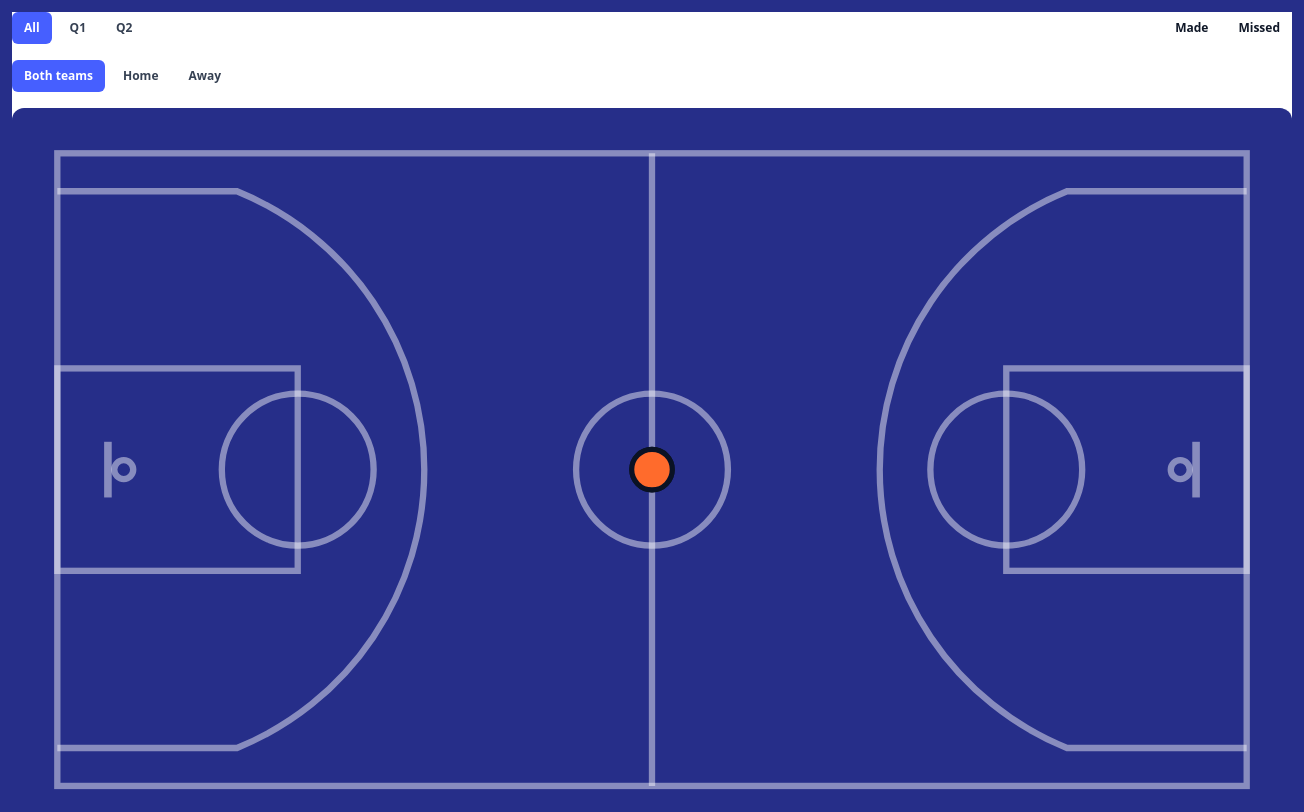
Test: ShotChartCourt › shows quarter filters when shots carry a period, and filters by it
Click the button "Q2" at coordinates (124, 28), box [104,12,144,44]
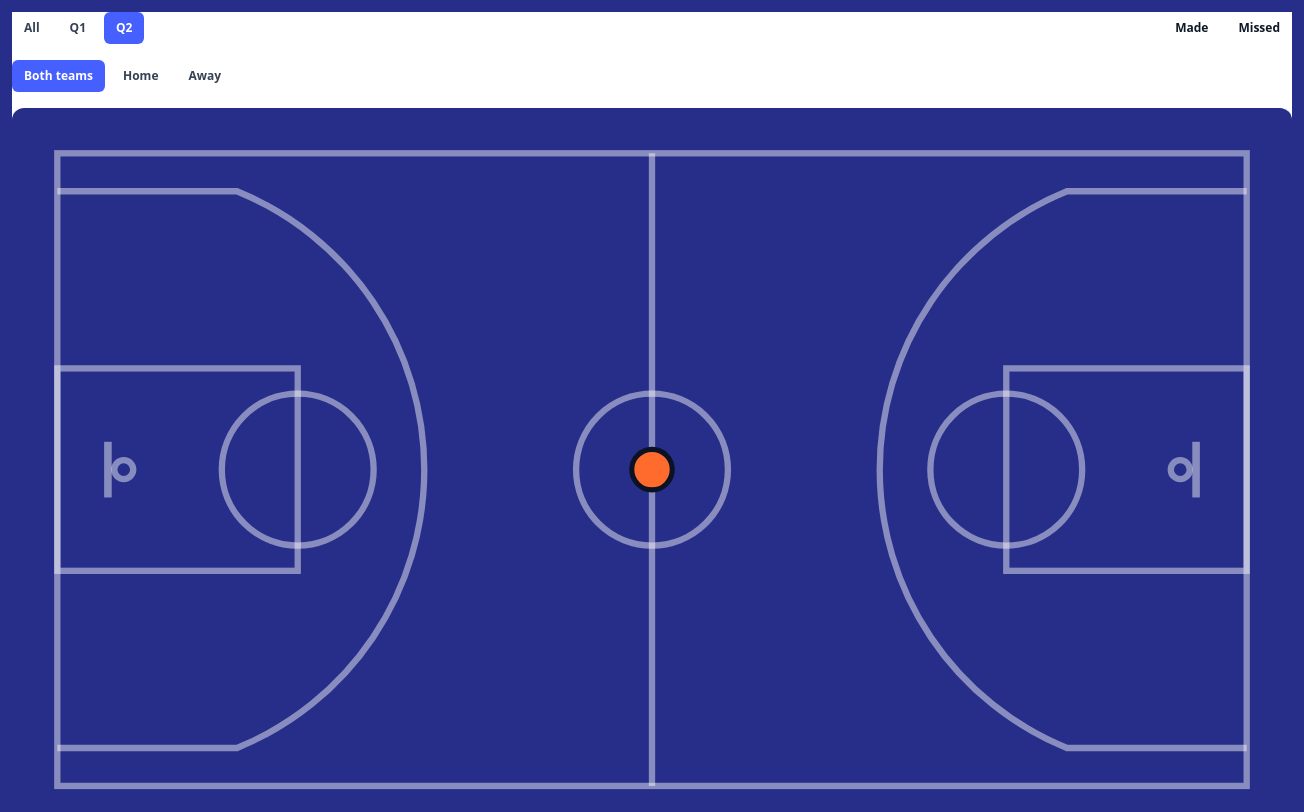
Check: the picture named "Shot chart: 1 shots shown" is shown
